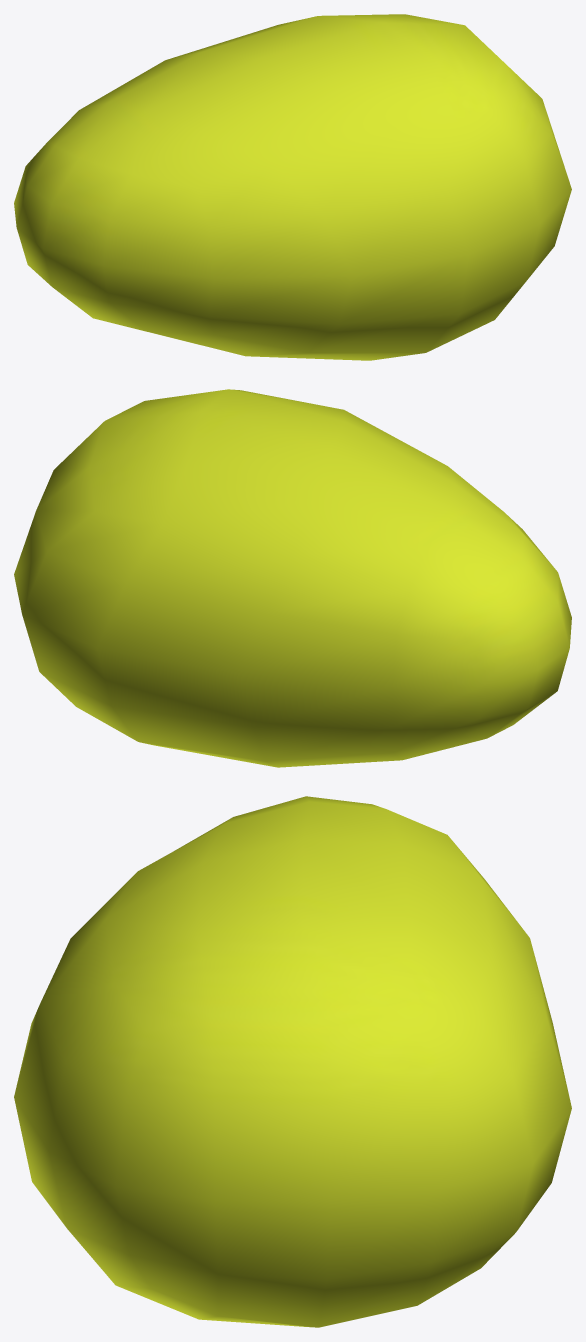
File: candy4.fbx
3 renders of one model, top to bottom at view 1: azimuth 30°, elevation 25°; view 2: azimuth 150°, elevation 25°; view 3: azimuth 270°, elevation 25°, orthographic. The views are drawn at different scales.
Visible parts, largest first — view 1: pCube23; view 2: pCube23; view 3: pCube23.
Boxes of the visible parts, left/top/right/bottom form: pCube23: left=14, top=14, right=571, bottom=360; pCube23: left=14, top=389, right=571, bottom=767; pCube23: left=14, top=796, right=571, bottom=1327.
Size of the model in its own units: 1.23 by 0.7177 by 0.9006.
